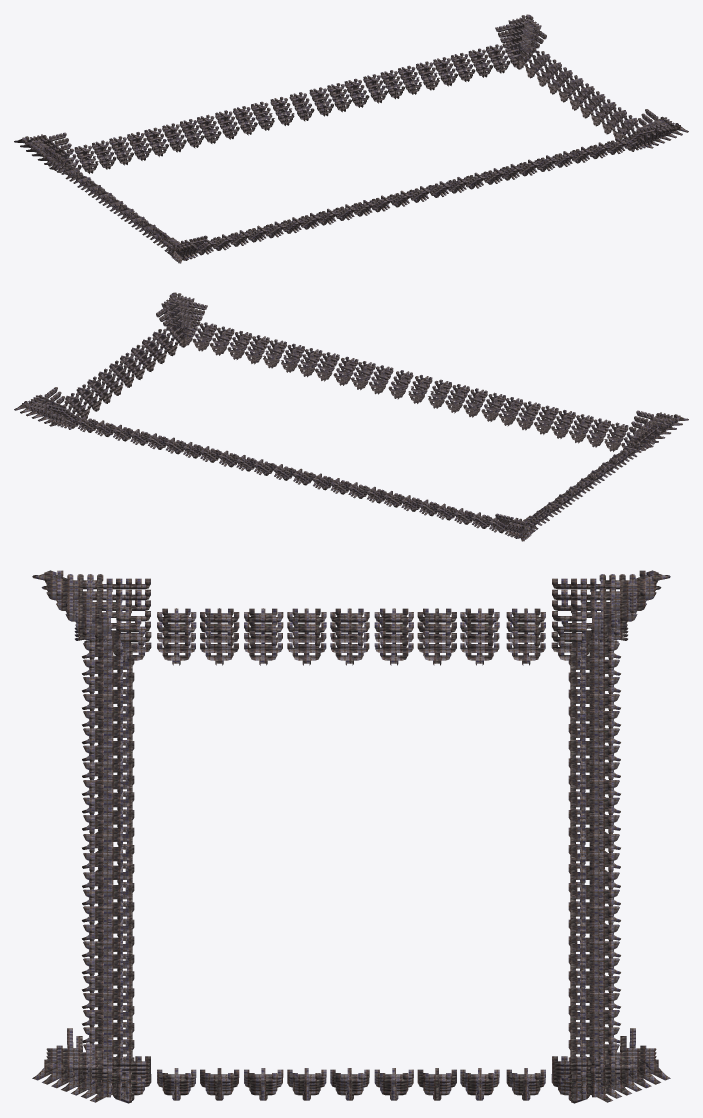
Rendered from 上榫卯.obj.
3 renders of one model, top to bottom at view 1: azimuth 30°, elevation 25°; view 2: azimuth 150°, elevation 25°; view 3: azimuth 270°, elevation 25°, orthographic. The views are drawn at different scales.
Parts seen in each view (by area): view 1: Obj3d66_17342430_44_912.001; view 2: Obj3d66_17342430_44_912.001; view 3: Obj3d66_17342430_44_912.001.
Part boxes in pixels (<box>): Obj3d66_17342430_44_912.001: <box>14,14,688,263</box>; Obj3d66_17342430_44_912.001: <box>14,292,688,541</box>; Obj3d66_17342430_44_912.001: <box>32,570,670,1103</box>.
Size of the model in its own units: 2289 by 135 by 1224.
